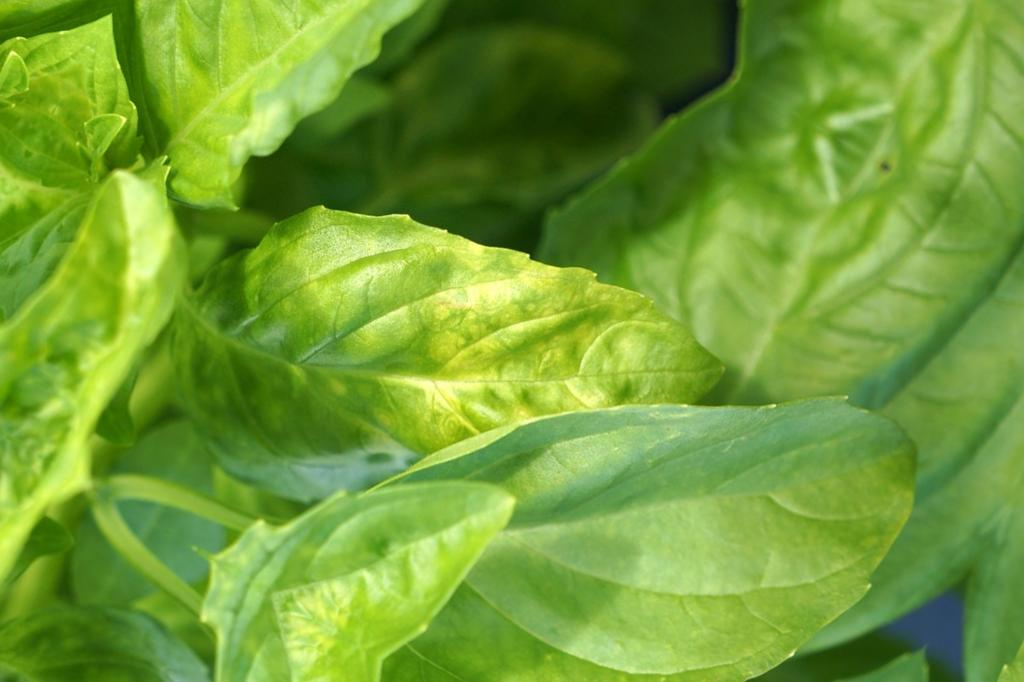Tomato leaf: (119, 95, 739, 663), (344, 232, 951, 682)
